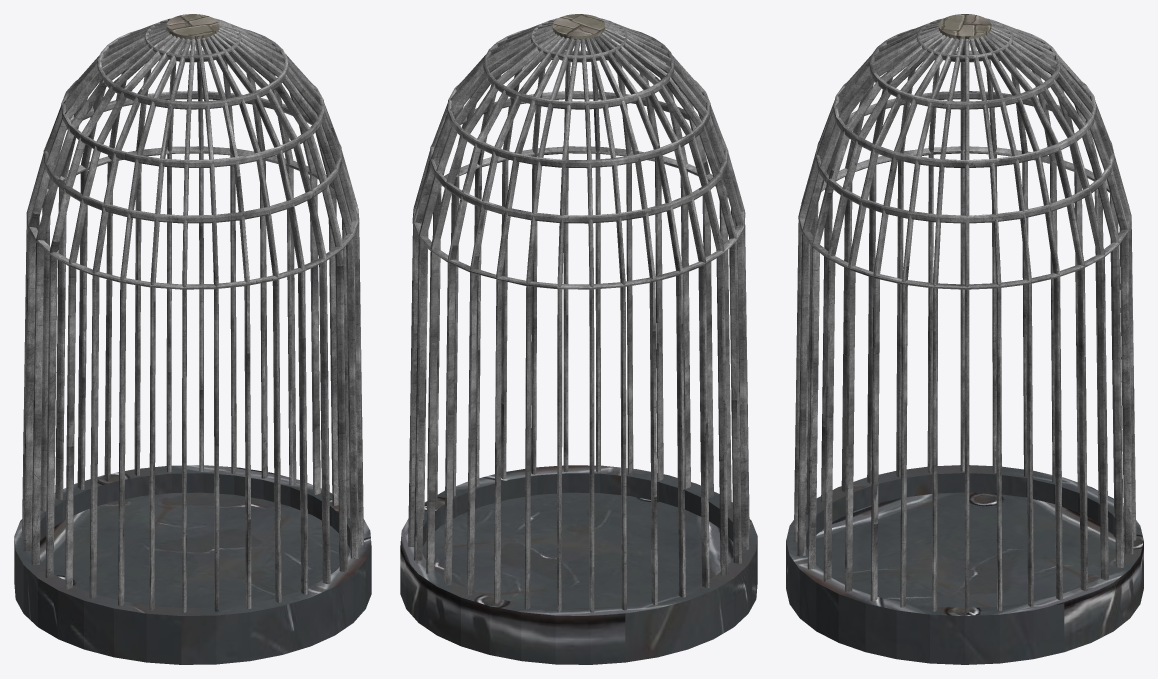
Rendered from клетка.fbx.
The picture shows the model from 3 angles, left to right: view 1: azimuth 30°, elevation 25°; view 2: azimuth 150°, elevation 25°; view 3: azimuth 270°, elevation 25°; orthographic projection.
Parts seen in each view (by area): view 1: решетка, верх клетки, низ клетки; view 2: решетка, верх клетки, низ клетки; view 3: решетка, верх клетки, низ клетки.
Part boxes in pixels (left/top/right/bottom): решетка: left=22, top=18, right=363, bottom=612; верх клетки: left=14, top=465, right=371, bottom=664; низ клетки: left=166, top=14, right=219, bottom=40; решетка: left=408, top=18, right=749, bottom=612; верх клетки: left=400, top=465, right=757, bottom=664; низ клетки: left=552, top=14, right=605, bottom=40; решетка: left=793, top=18, right=1136, bottom=612; верх клетки: left=786, top=465, right=1143, bottom=664; низ клетки: left=938, top=14, right=991, bottom=40.
Size of the model in its own units: 214 by 372 by 214.
